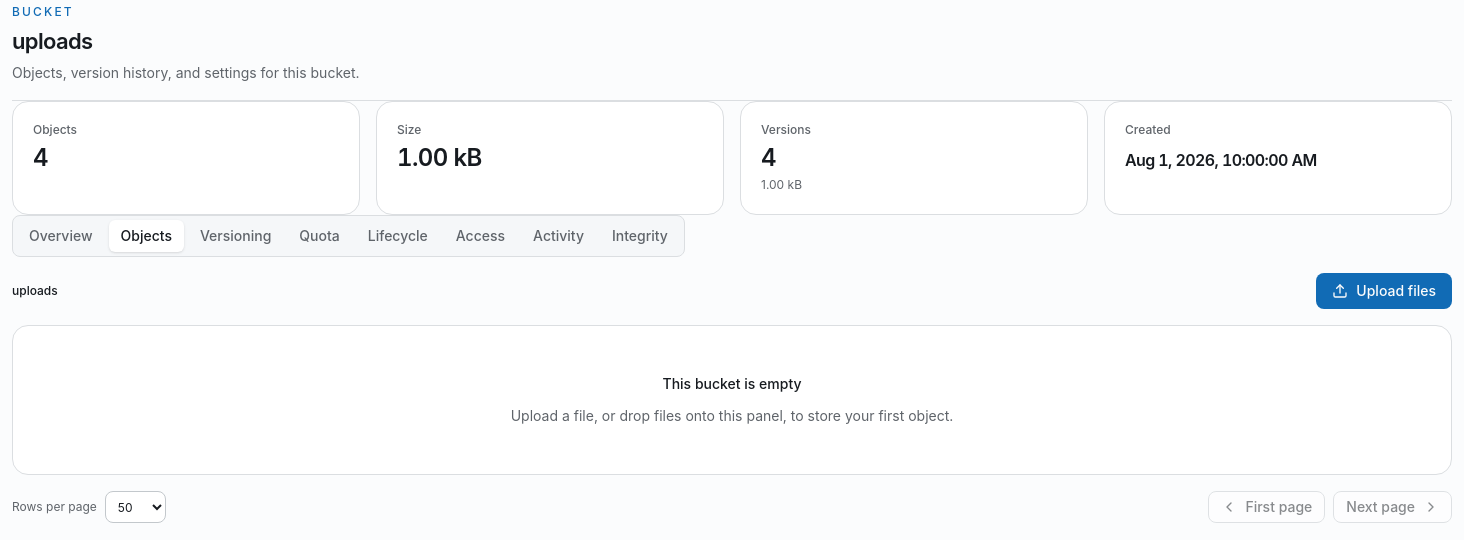
bucket lifecycle rules › offers to enable a rule that is currently disabled
Click the tab "Lifecycle". click: (398, 236)
box: x1=356 y1=220 x2=440 y2=252
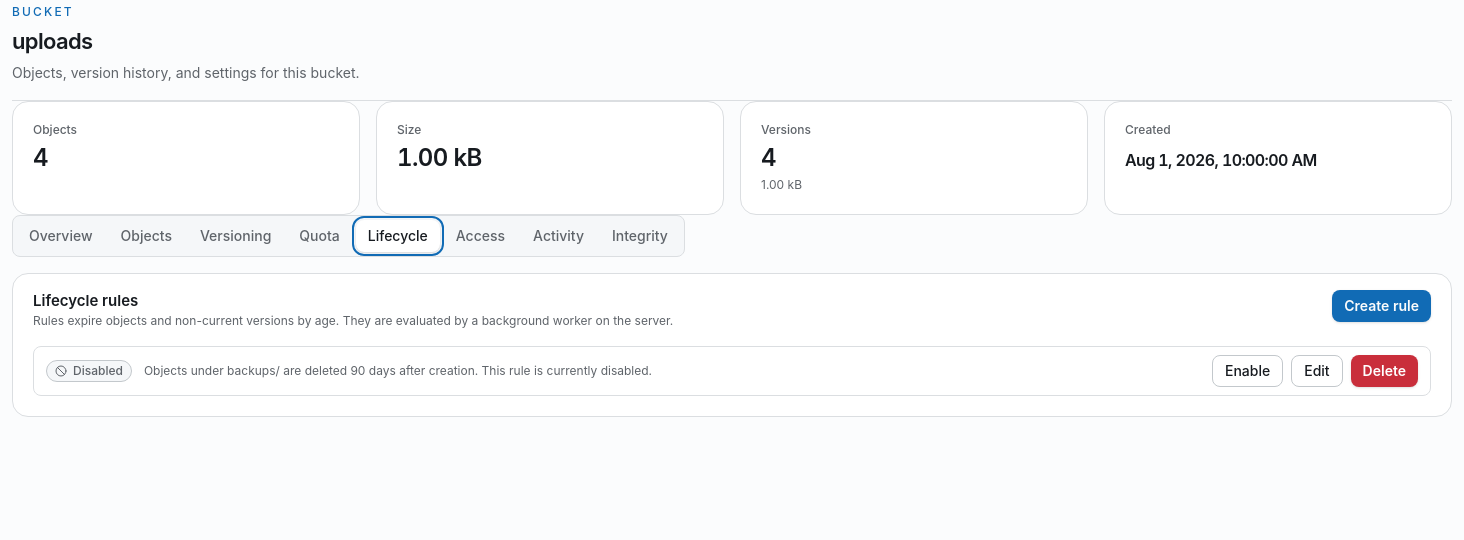
Check: the text "This rule is currently disabled." is shown, box x1=144 y1=363 x2=652 y2=378
Check: the button with aria-label "enable lifecycle rule backups" is shown, box x1=1212 y1=355 x2=1283 y2=387
